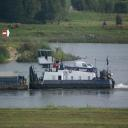tugboat: (28, 45, 118, 92)
